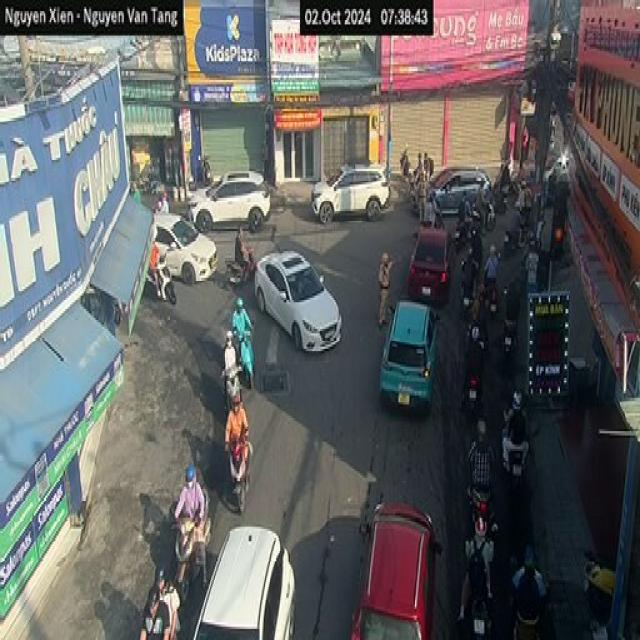car: (348, 500, 442, 638), (191, 524, 295, 638), (254, 249, 341, 353), (379, 300, 439, 413), (148, 211, 218, 285)
motorcycle: (226, 438, 252, 513), (146, 251, 176, 305)
person: (172, 464, 208, 586), (378, 251, 393, 325), (148, 238, 164, 298)
